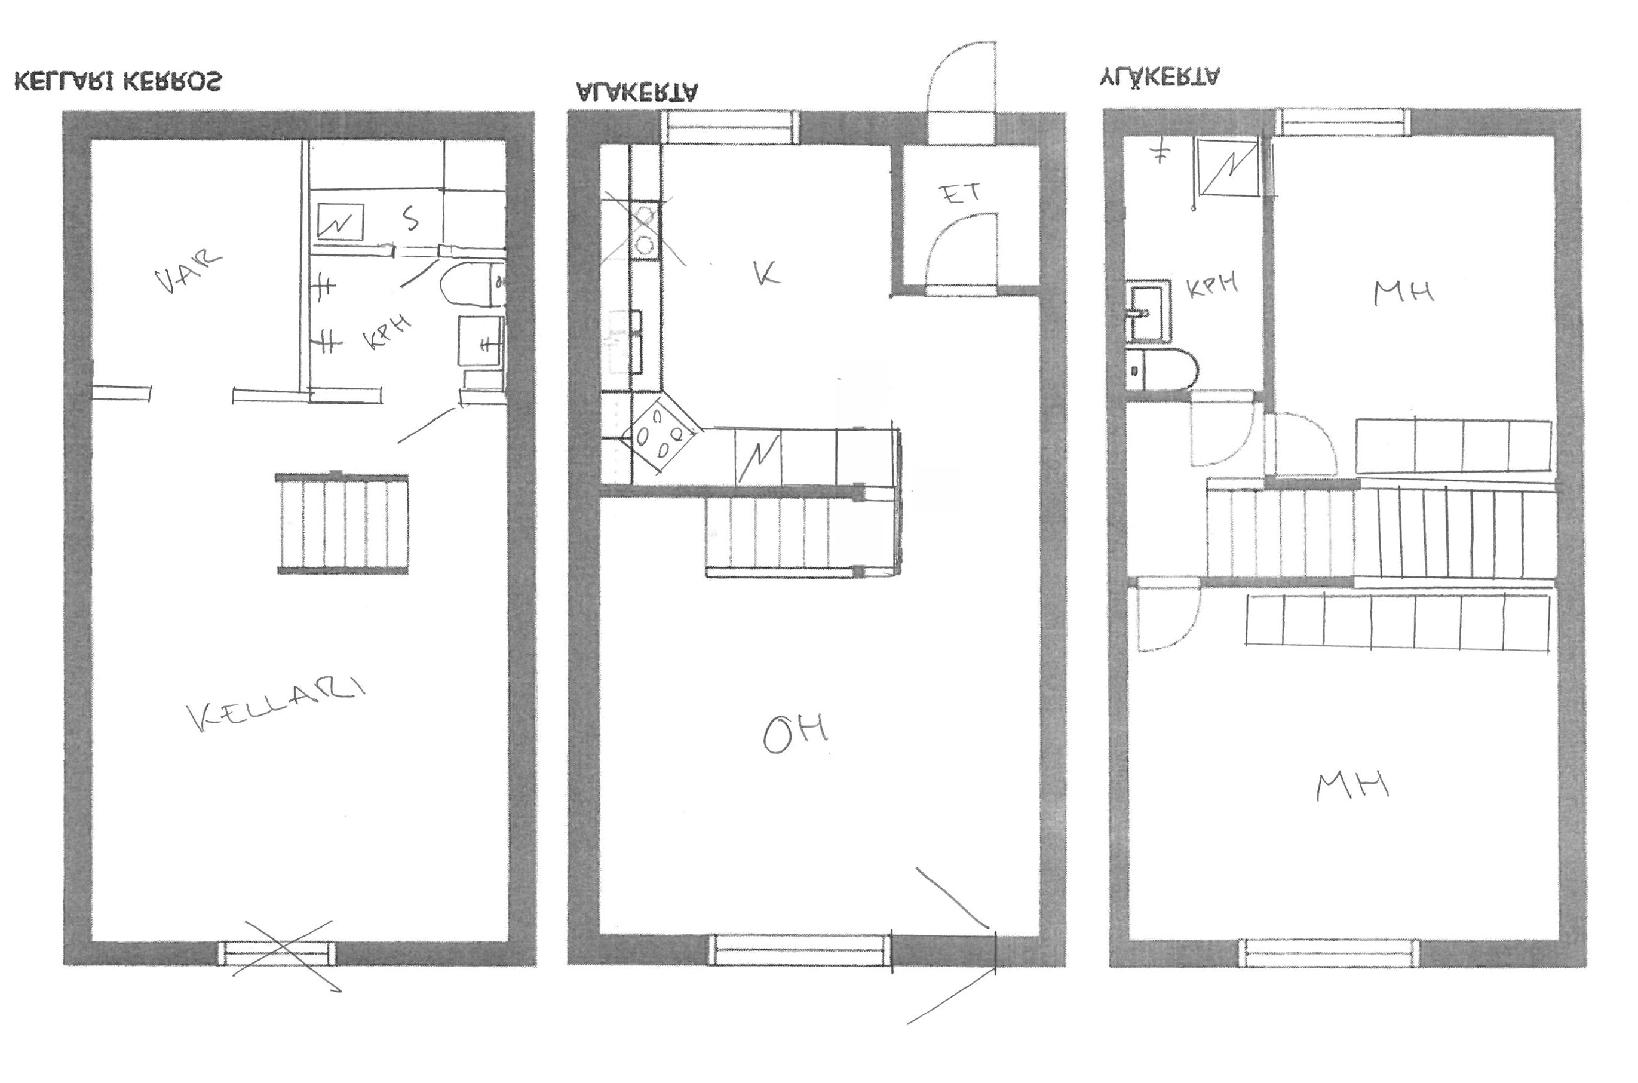door: (897, 865, 1009, 1032), (925, 33, 1002, 147), (922, 213, 1005, 299), (1136, 573, 1205, 660), (1190, 388, 1255, 474), (1264, 411, 1339, 482), (384, 390, 458, 448), (390, 241, 447, 291)
window: (658, 105, 801, 141), (710, 933, 889, 962), (1237, 942, 1420, 967), (1275, 108, 1408, 135), (218, 942, 334, 966)
zone: (602, 141, 1040, 934), (88, 134, 511, 940), (1124, 587, 1555, 937), (1274, 135, 1555, 482), (1125, 396, 1558, 577), (1118, 134, 1263, 387), (901, 141, 1040, 289)
